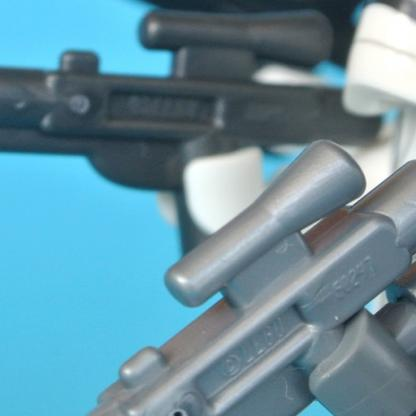gun: (0, 137, 415, 415), (0, 8, 383, 262), (51, 0, 374, 72)
